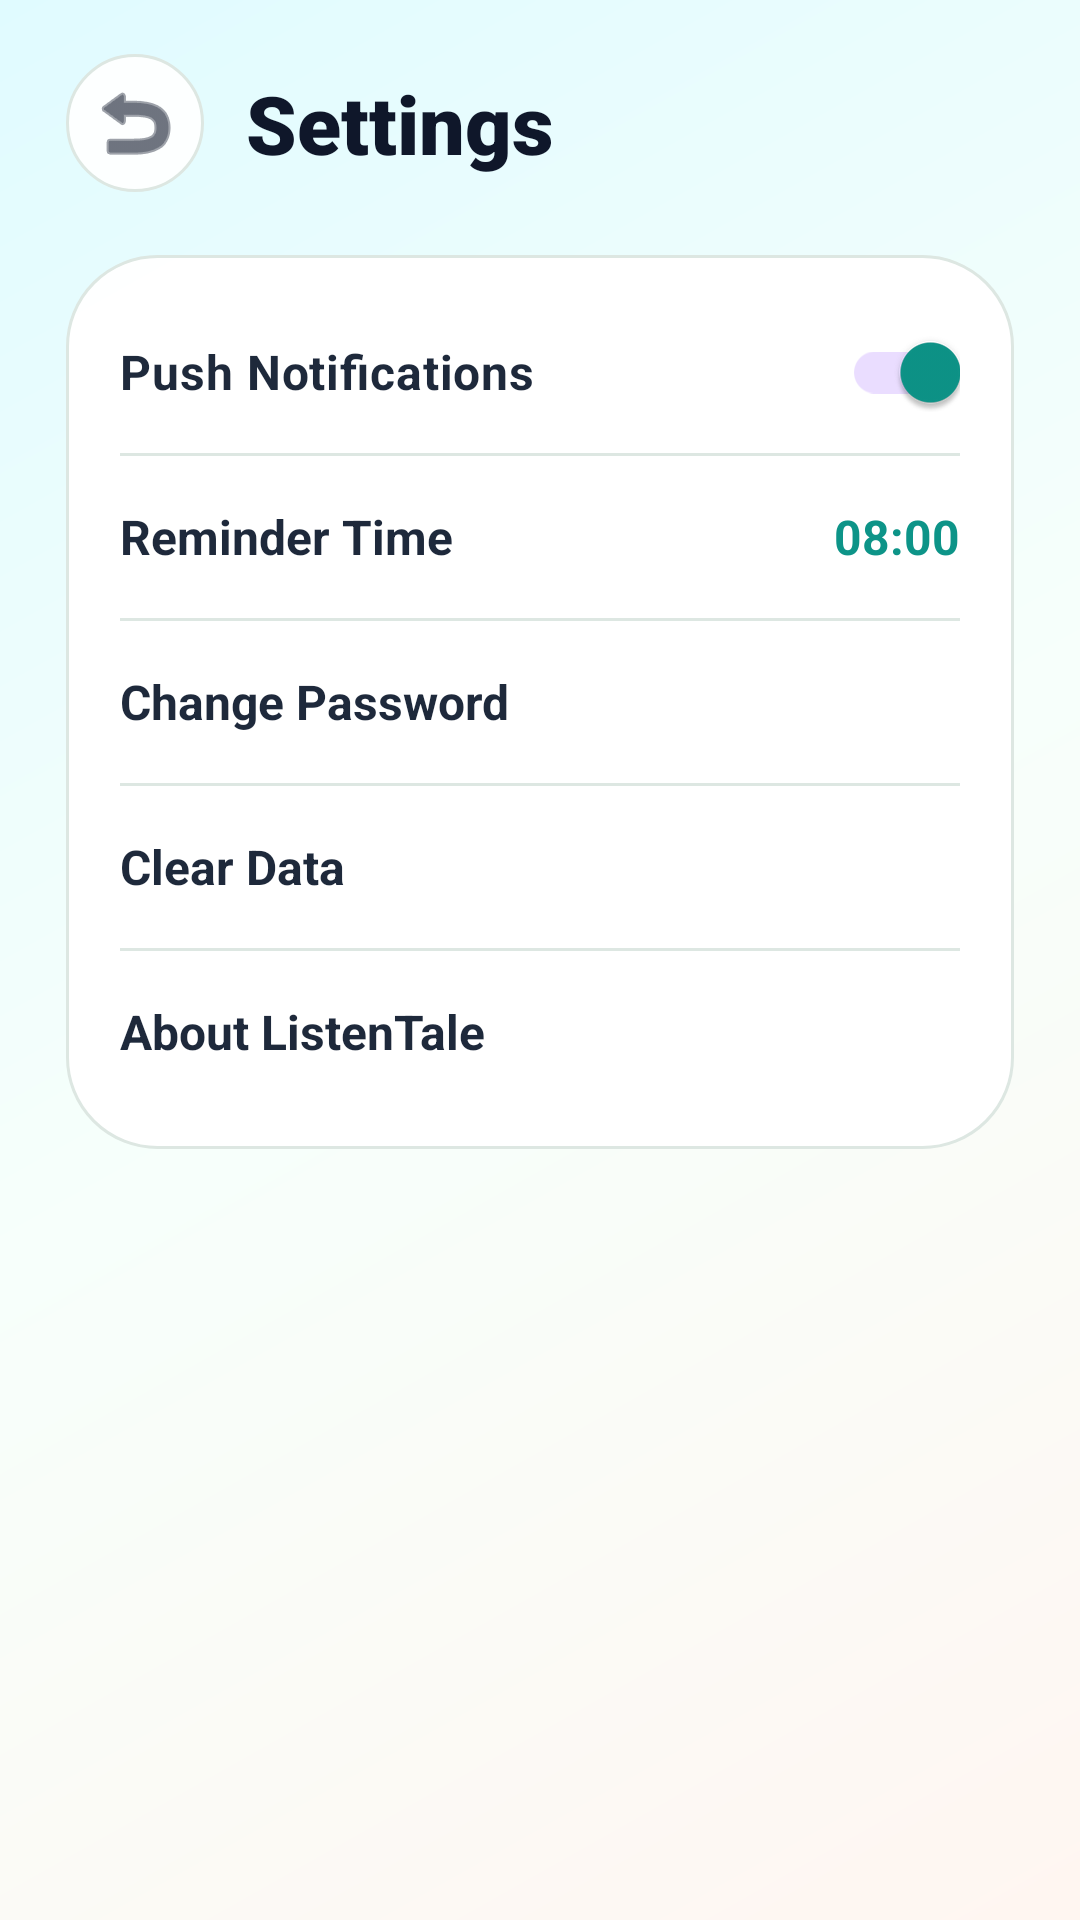

Icon click points for this 1080px x 1920px phone screenshot, format point (x, y):
Back: point (135, 123)
